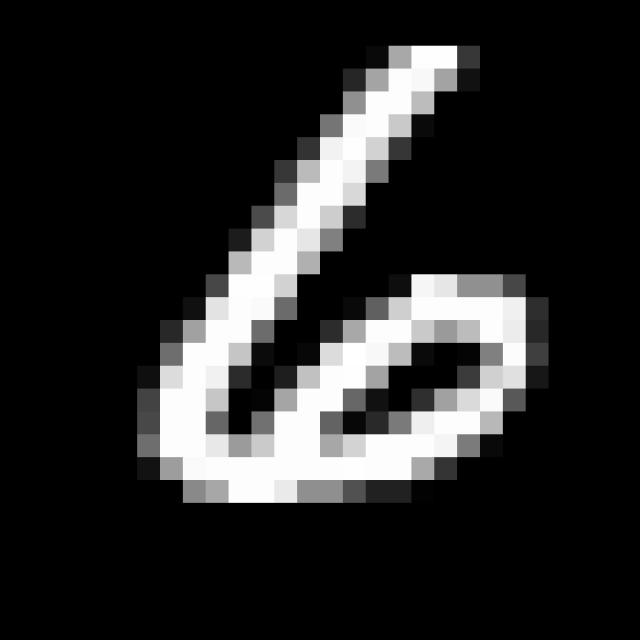six -6-: (153, 43, 537, 509)
